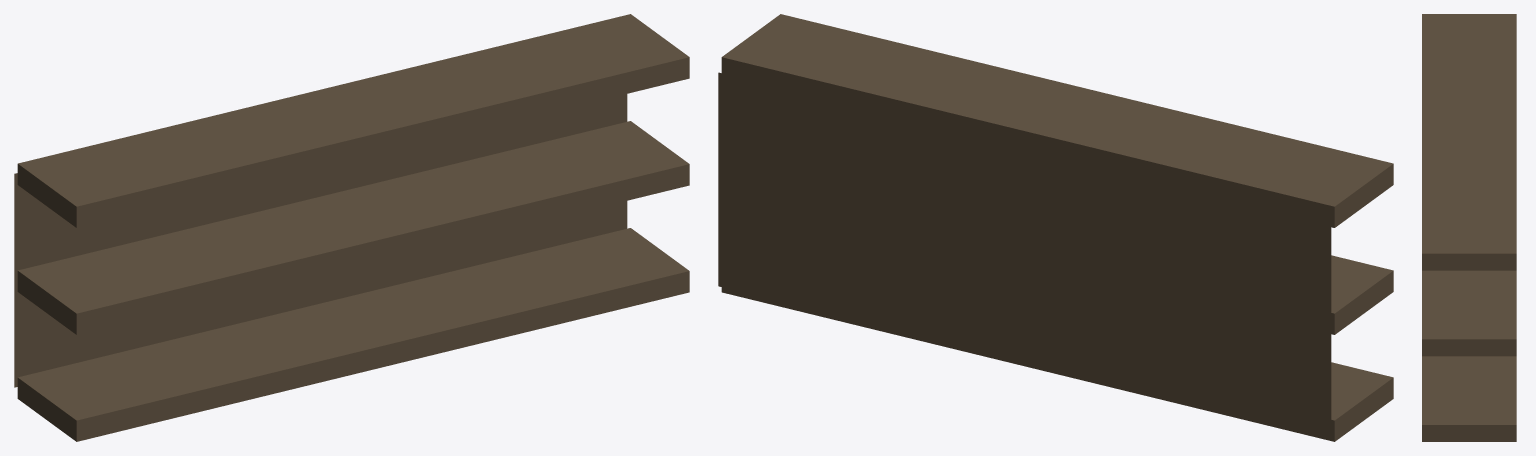
Rendered from biblio.fbx.
3 views of the same model, side by side, from view 1: azimuth 30°, elevation 25°; view 2: azimuth 150°, elevation 25°; view 3: azimuth 270°, elevation 25° (orthographic). The views are drawn at different scales.
Visible parts, largest first — view 1: pCube2, pCube1, pCube3, pPlane1; view 2: pPlane1, pCube3, pCube1, pCube2; view 3: pCube3, pCube2, pCube1.
Part boxes in pixels (x1,y1,x2,y2): pCube2: (17,121,689,334); pCube1: (17,228,689,441); pCube3: (17,14,689,227); pPlane1: (14,94,627,387); pPlane1: (718,72,1331,435); pCube3: (721,14,1393,227); pCube1: (721,287,1393,441); pCube2: (1331,255,1393,334); pCube3: (1422,14,1516,270); pCube2: (1422,270,1516,356); pCube1: (1422,356,1516,441).
Bounding box in the file's own units: 3 × 1.1 × 0.5288.
